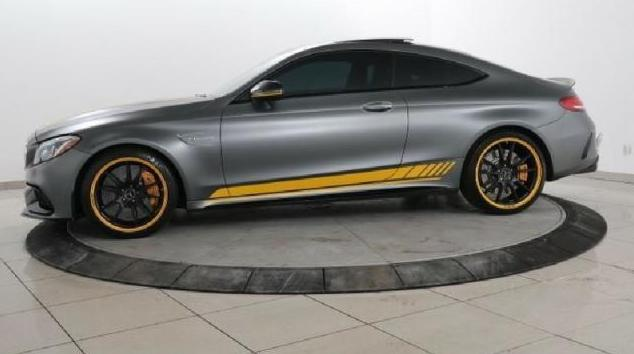C63AMG: (18, 28, 607, 244)
